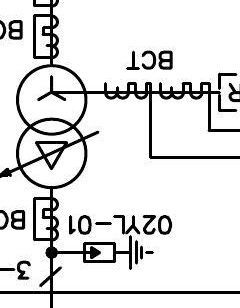11522_tx_dyn1: (15, 63, 88, 190)
115_la: (82, 234, 155, 271)
